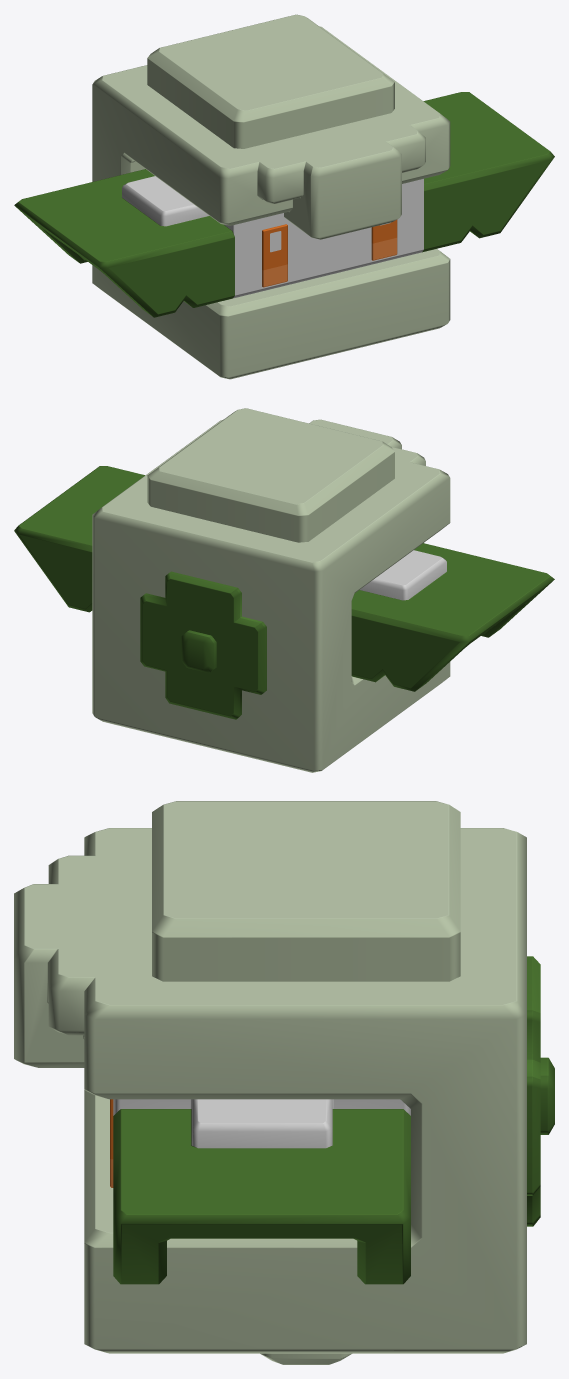
The picture shows the model from 3 angles, top to bottom: view 1: azimuth 30°, elevation 25°; view 2: azimuth 150°, elevation 25°; view 3: azimuth 270°, elevation 25°; orthographic projection. The views are drawn at different scales.
Parts seen in each view (by area): view 1: model; view 2: model; view 3: model.
Part boxes in pixels (x1,y1,x2,y2): model: (14, 14, 554, 379); model: (14, 408, 554, 772); model: (14, 801, 554, 1364).
Size of the model in its own units: 2.53 by 1.4 by 1.57.
